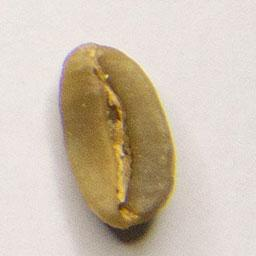longberry: (56, 38, 179, 234)
